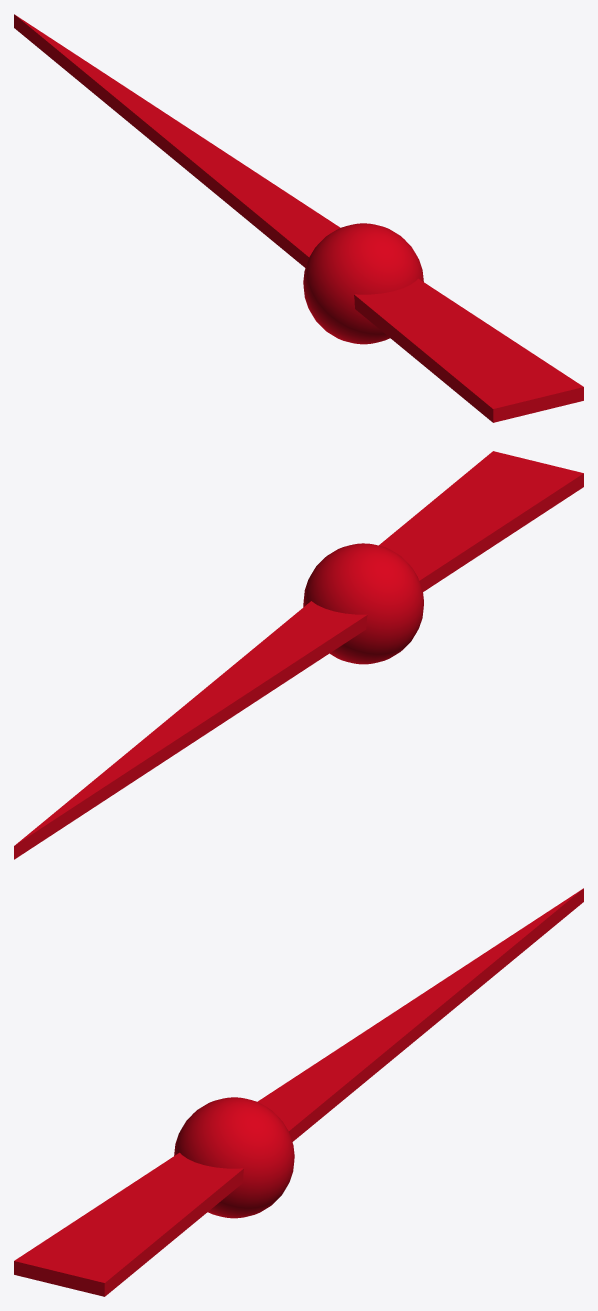
File: dial_thermometer5.glb
The picture shows the model from 3 angles, top to bottom: view 1: azimuth 30°, elevation 25°; view 2: azimuth 150°, elevation 25°; view 3: azimuth 330°, elevation 25°; orthographic projection.
Visible parts, largest first — view 1: stanfordOne; view 2: stanfordOne; view 3: stanfordOne.
Boxes of the visible parts, x1,y1,x2,y2 form: stanfordOne: (14,14,583,422); stanfordOne: (14,451,583,859); stanfordOne: (14,888,583,1296).
Size of the model in its own units: 2 by 2 by 17.33.
